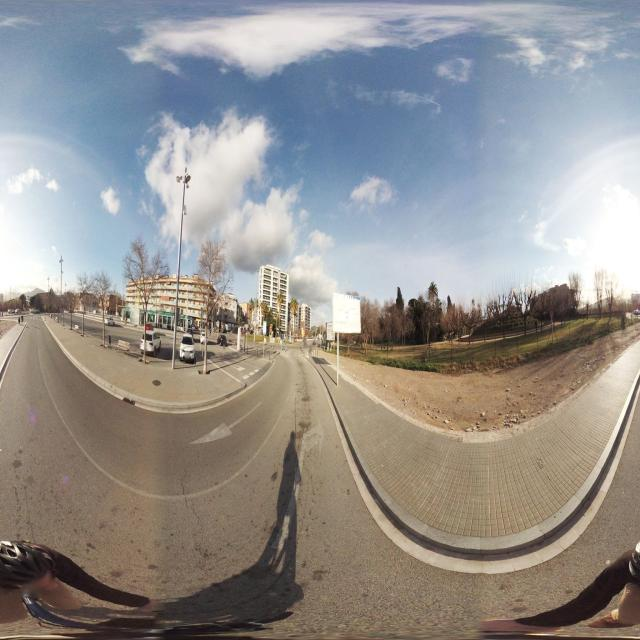forb_stopping: (550, 311, 553, 319)
